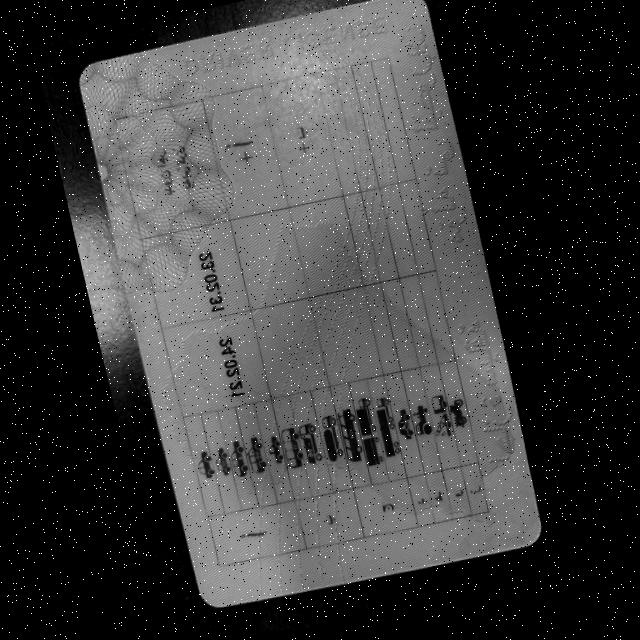card: (80, 0, 539, 606)
